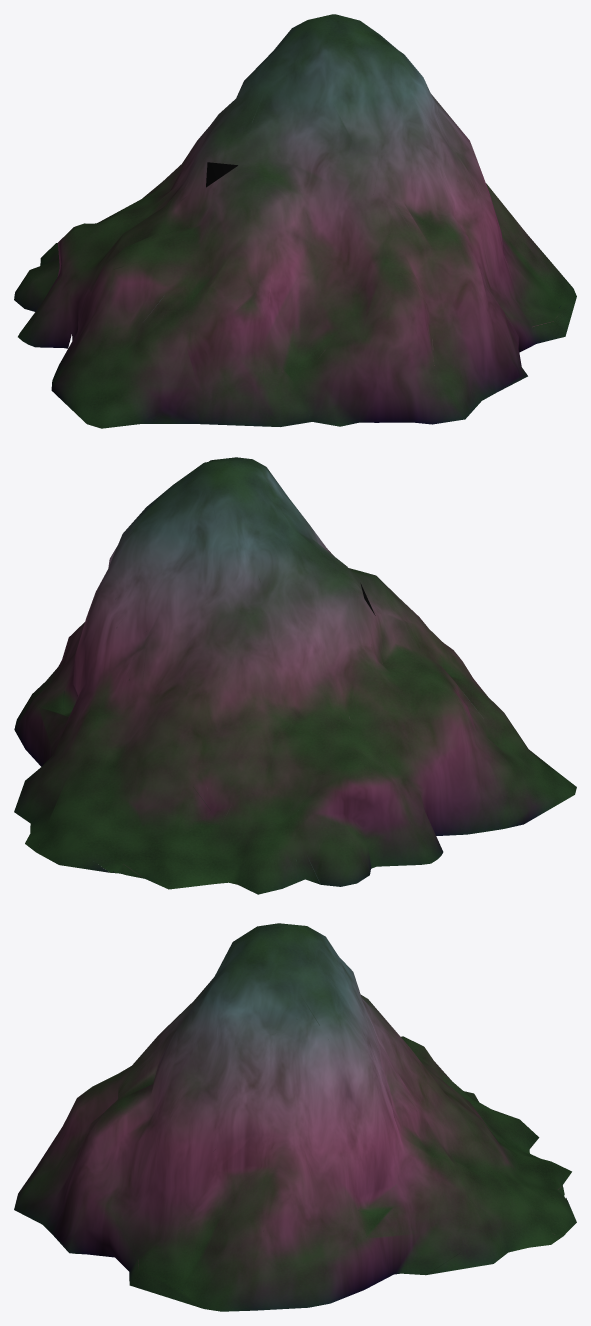
The model's file is Mountain.glb.
The picture shows the model from 3 angles, top to bottom: view 1: azimuth 30°, elevation 25°; view 2: azimuth 150°, elevation 25°; view 3: azimuth 270°, elevation 25°; orthographic projection. The views are drawn at different scales.
Visible parts, largest first — view 1: Object_5; view 2: Object_5; view 3: Object_5.
Part boxes in pixels (x1,y1,x2,y2): Object_5: [14, 14, 576, 428]; Object_5: [14, 457, 576, 894]; Object_5: [14, 923, 576, 1311].
Size of the model in its own units: 26.13 by 14.78 by 26.11.
2 materials, 2 textured.
